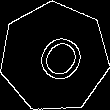O_SW: (23, 24, 86, 91)
